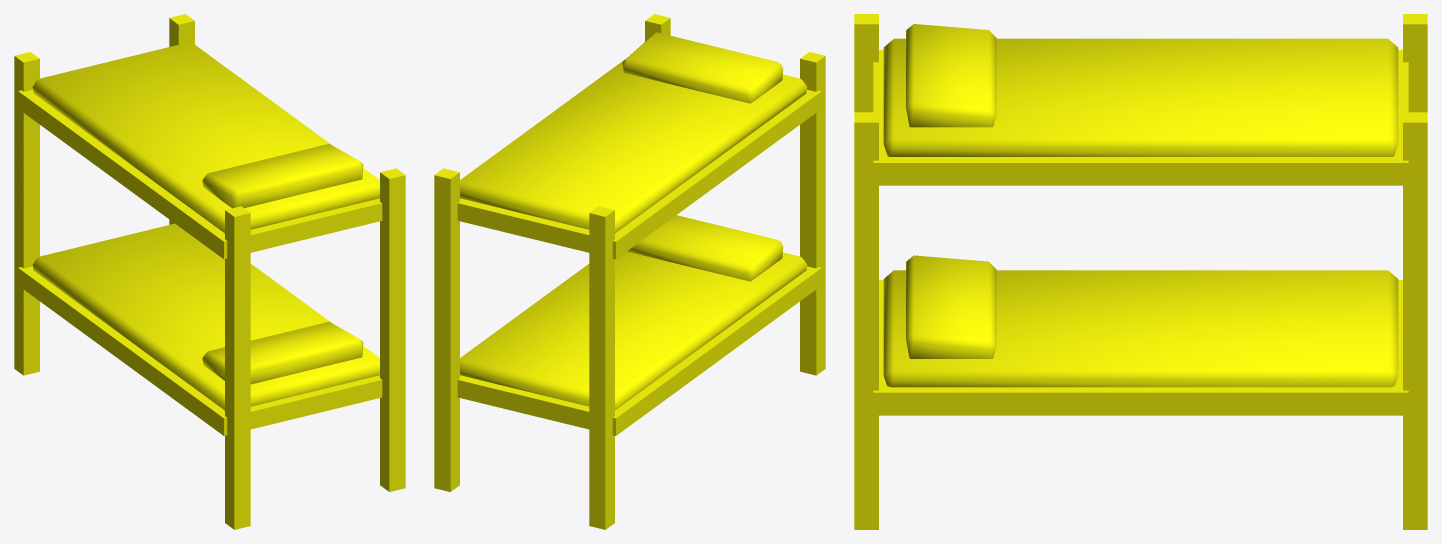
3 renders of one model, left to right at view 1: azimuth 30°, elevation 25°; view 2: azimuth 150°, elevation 25°; view 3: azimuth 270°, elevation 25°, orthographic. The views are drawn at different scales.
Visible parts, largest first — view 1: bunks; view 2: bunks; view 3: bunks.
Part boxes in pixels (x1,y1,x2,y2): bunks: (14,14,405,529); bunks: (434,14,825,529); bunks: (854,14,1427,529).
Bounding box in the file's own units: 0.00962 × 0.0164 × 0.0206.
1 material, 1 textured.
